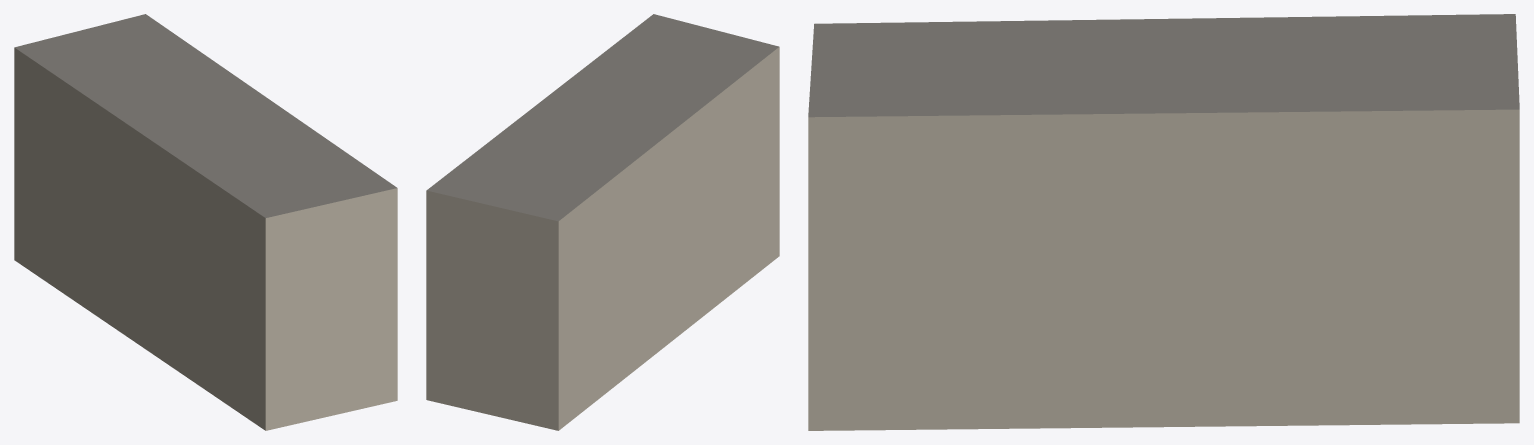
3 renders of one model, left to right at view 1: azimuth 30°, elevation 25°; view 2: azimuth 150°, elevation 25°; view 3: azimuth 270°, elevation 25°, orthographic. The views are drawn at different scales.
Parts seen in each view (by area): view 1: HP-w987283669; view 2: HP-w987283669; view 3: HP-w987283669.
Boxes of the visible parts, x1,y1,x2,y2 form: HP-w987283669: (14, 14, 397, 430); HP-w987283669: (426, 14, 779, 430); HP-w987283669: (808, 14, 1519, 430).
Bounding box in the file's own units: 12.7 × 18 × 37.
